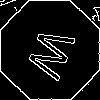W: (25, 25, 85, 86)
